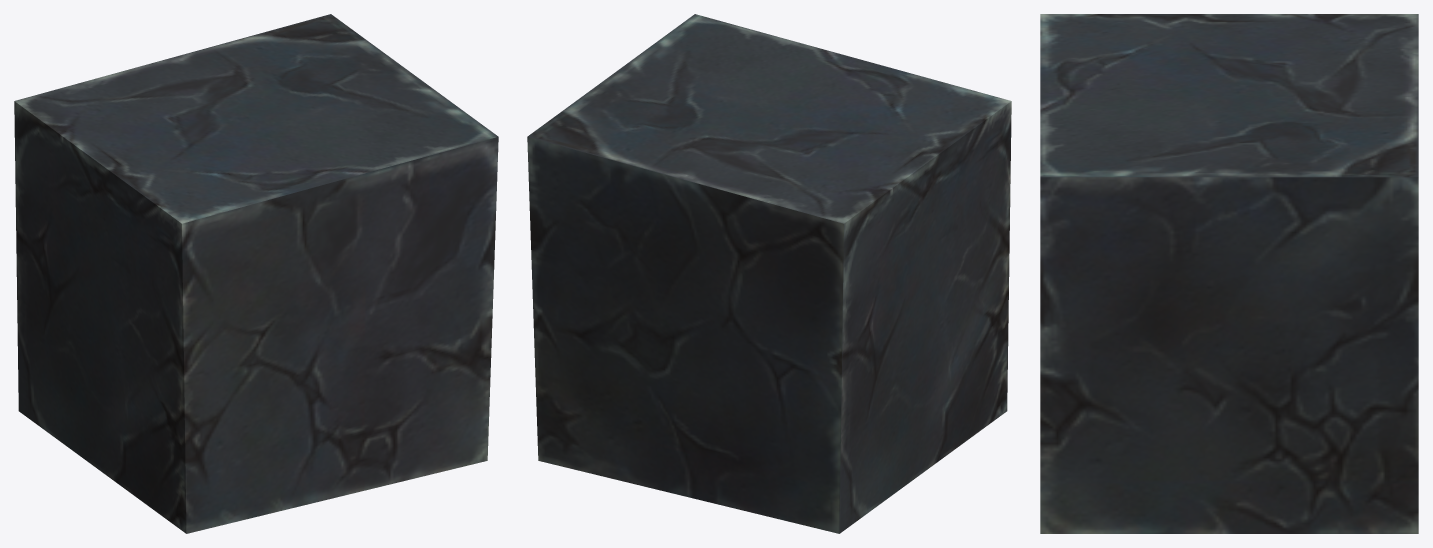
The model's file is B_shikuai015.fbx.
The picture shows the model from 3 angles, left to right: view 1: azimuth 30°, elevation 25°; view 2: azimuth 150°, elevation 25°; view 3: azimuth 270°, elevation 25°; orthographic projection. The views are drawn at different scales.
Visible parts, largest first — view 1: B_shikuai015; view 2: B_shikuai015; view 3: B_shikuai015.
Part boxes in pixels (x1,y1,x2,y2): B_shikuai015: (14,14,498,533); B_shikuai015: (527,14,1011,533); B_shikuai015: (1040,14,1418,533).
Bounding box in the file's own units: 94.82 × 91.94 × 86.97.
